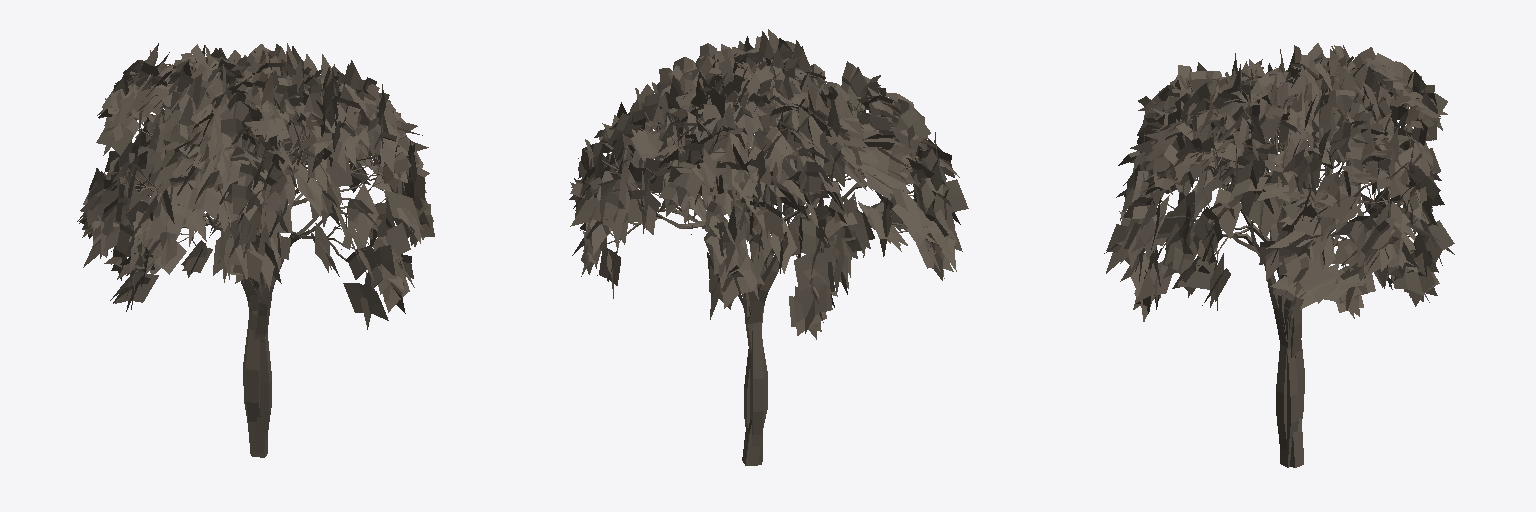
Rendered from tree_2.obj.
3 renders of one model, left to right at view 1: azimuth 30°, elevation 25°; view 2: azimuth 150°, elevation 25°; view 3: azimuth 270°, elevation 25°, orthographic.
Visible parts, largest first — view 1: Gnarly_t; view 2: Gnarly_t; view 3: Gnarly_t.
Boxes of the visible parts, x1=… form: Gnarly_t: x1=77, y1=43, x2=434, y2=457; Gnarly_t: x1=569, y1=29, x2=968, y2=465; Gnarly_t: x1=1104, y1=43, x2=1454, y2=467.
Size of the model in its own units: 2.27 by 2.47 by 1.92.